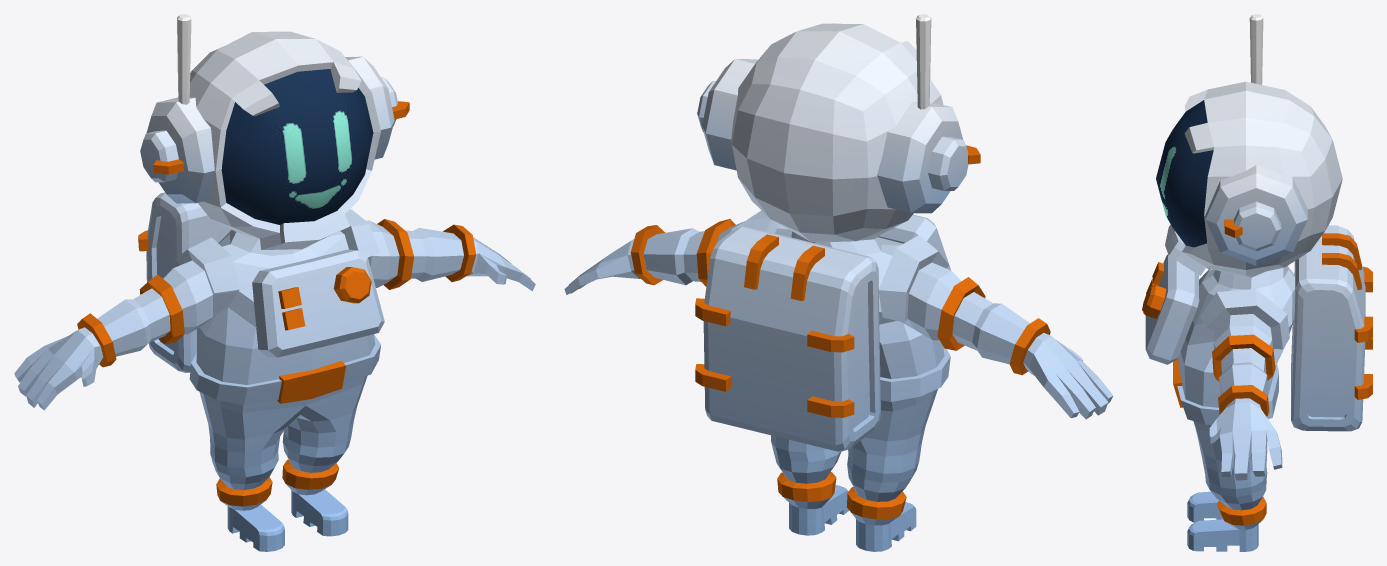
3 renders of one model, left to right at view 1: azimuth 30°, elevation 25°; view 2: azimuth 150°, elevation 25°; view 3: azimuth 270°, elevation 25°, orthographic. The views are drawn at different scales.
Parts seen in each view (by area): view 1: Cylinder_Suit_Base_0, Cylinder_Suit_Details_0; view 2: Cylinder_Suit_Base_0, Cylinder_Suit_Details_0; view 3: Cylinder_Suit_Base_0, Cylinder_Suit_Details_0.
Part boxes in pixels (x1,y1,x2,y2): Cylinder_Suit_Base_0: (14, 14, 535, 551); Cylinder_Suit_Details_0: (77, 101, 476, 506); Cylinder_Suit_Base_0: (564, 14, 1113, 551); Cylinder_Suit_Details_0: (630, 145, 1050, 519); Cylinder_Suit_Base_0: (1145, 14, 1365, 551); Cylinder_Suit_Details_0: (1142, 219, 1372, 525).
Size of the model in its own units: 0.031 by 0.0309 by 0.0136.
Materials: 2 (1 with a texture image).
